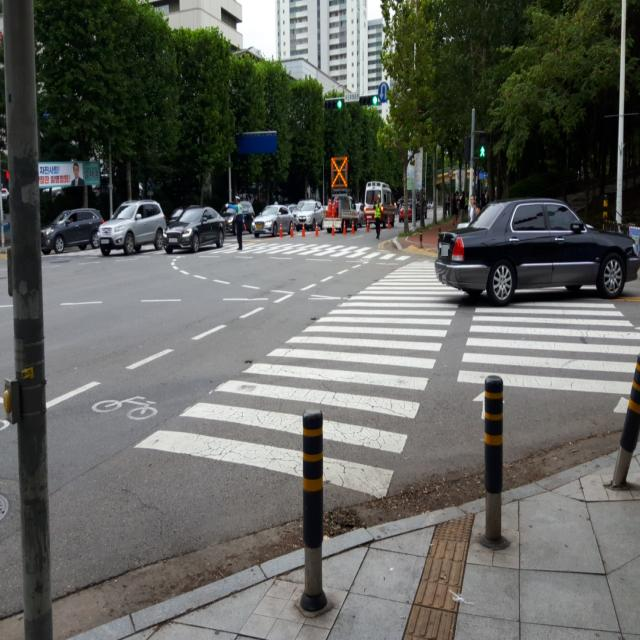초록불: (478, 132, 487, 160)
횡단보도: (132, 254, 638, 501)
